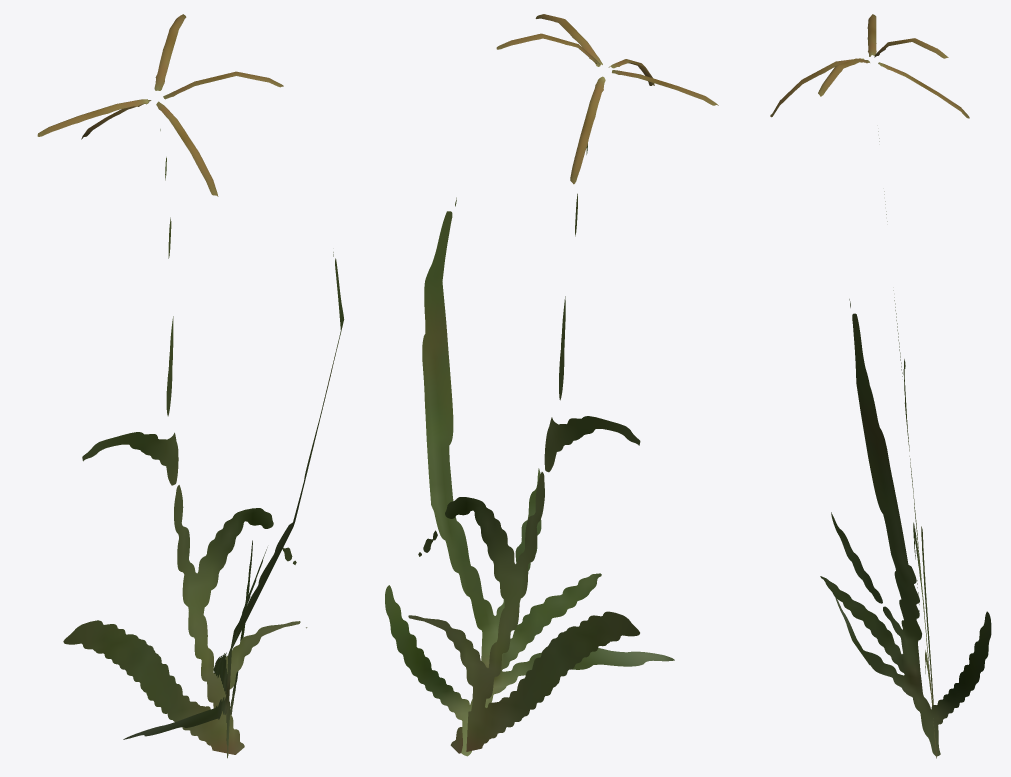
3 renders of one model, left to right at view 1: azimuth 30°, elevation 25°; view 2: azimuth 150°, elevation 25°; view 3: azimuth 270°, elevation 25°, orthographic. The views are drawn at different scales.
Visible parts, largest first — view 1: grass_bermuda_01__a_lod1; view 2: grass_bermuda_01__a_lod1; view 3: grass_bermuda_01__a_lod1.
Boxes of the visible parts, bbox=[...] form: grass_bermuda_01__a_lod1: bbox=[37, 14, 344, 758]; grass_bermuda_01__a_lod1: bbox=[385, 14, 718, 756]; grass_bermuda_01__a_lod1: bbox=[770, 14, 991, 758].
Size of the model in its own units: 0.0678 by 0.1509 by 0.0456.
1 material, 1 textured.
